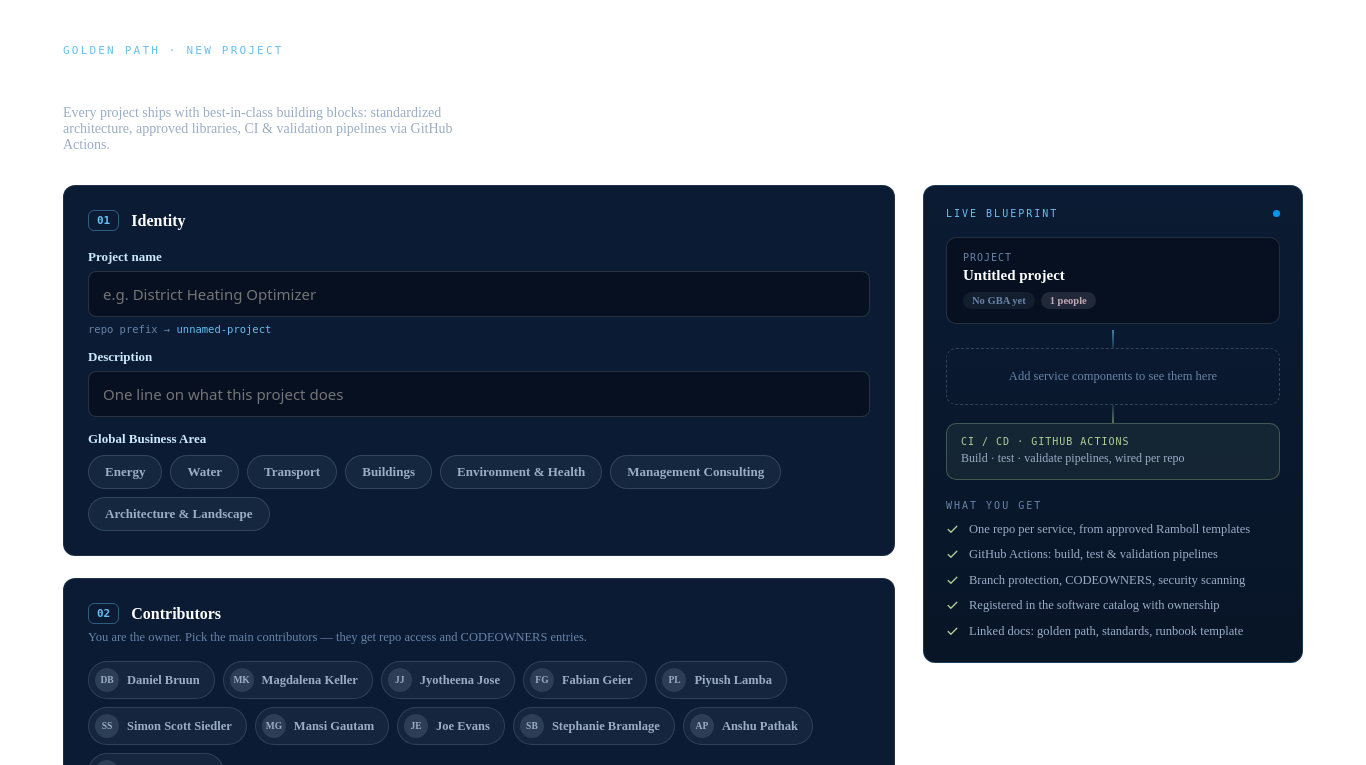
WizardScreen › toggles a GBA chip on and off (single-select)
Click the text "Energy" at (125, 472), box [88,455,162,489]
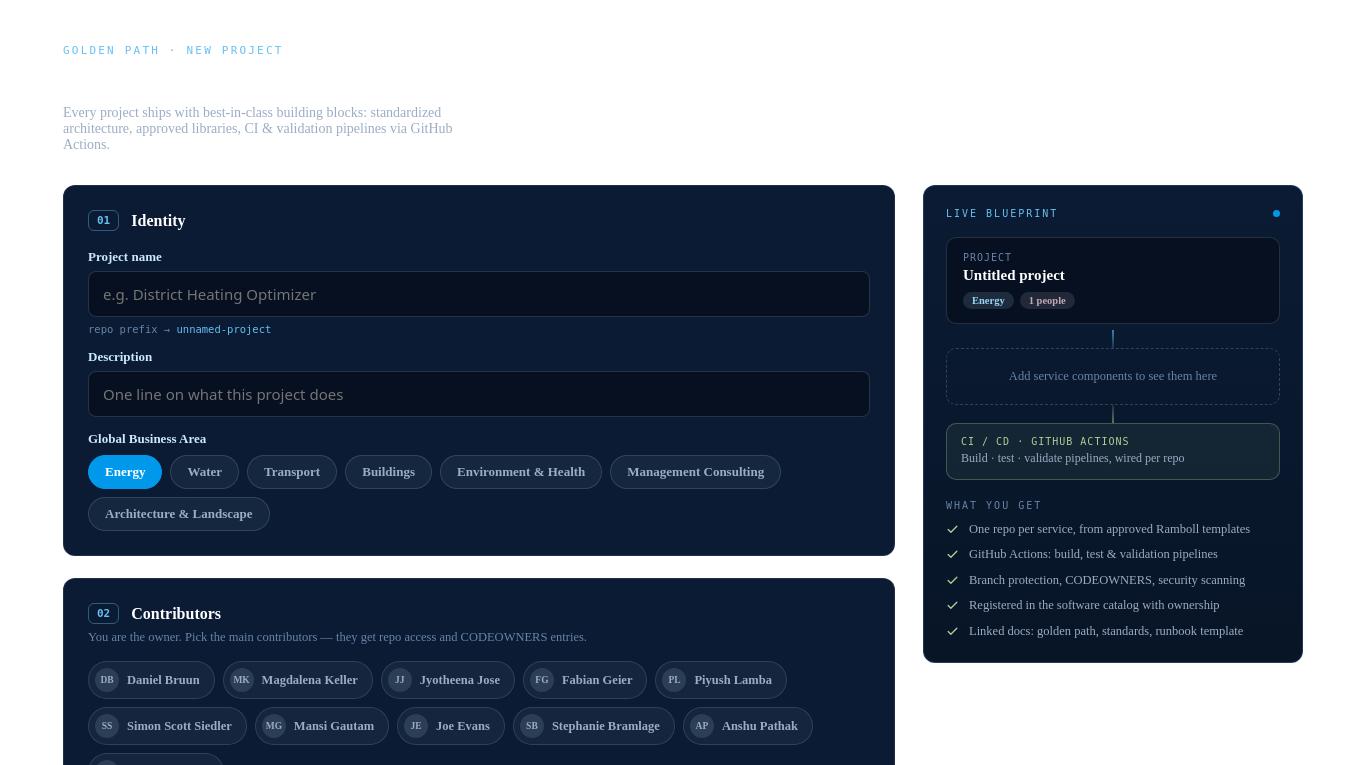
Now the text "No GBA yet" is gone
Click the text "Water" at (205, 472), box [170,455,239,489]
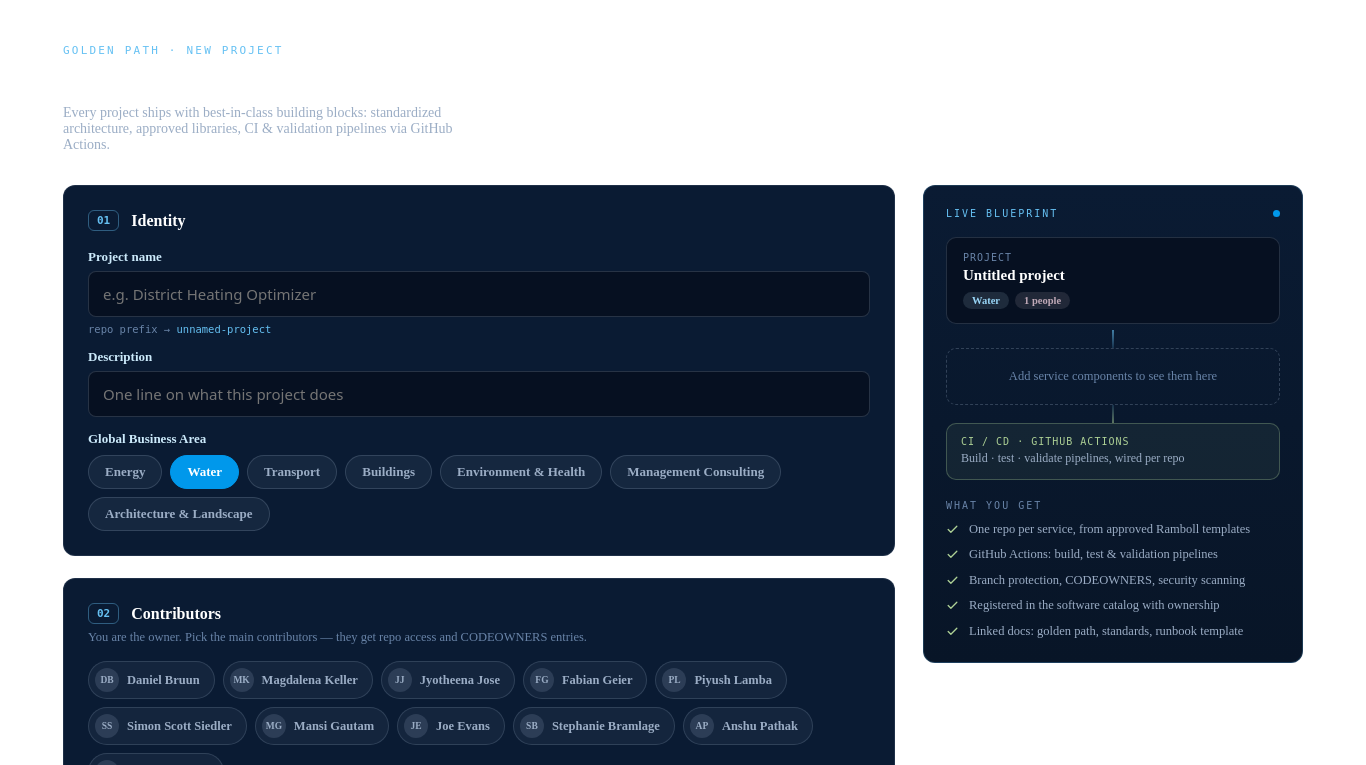
Expected: the text "No GBA yet" is not shown
Click the text "Water" next to "Energy" at (205, 472), box [170,455,239,489]
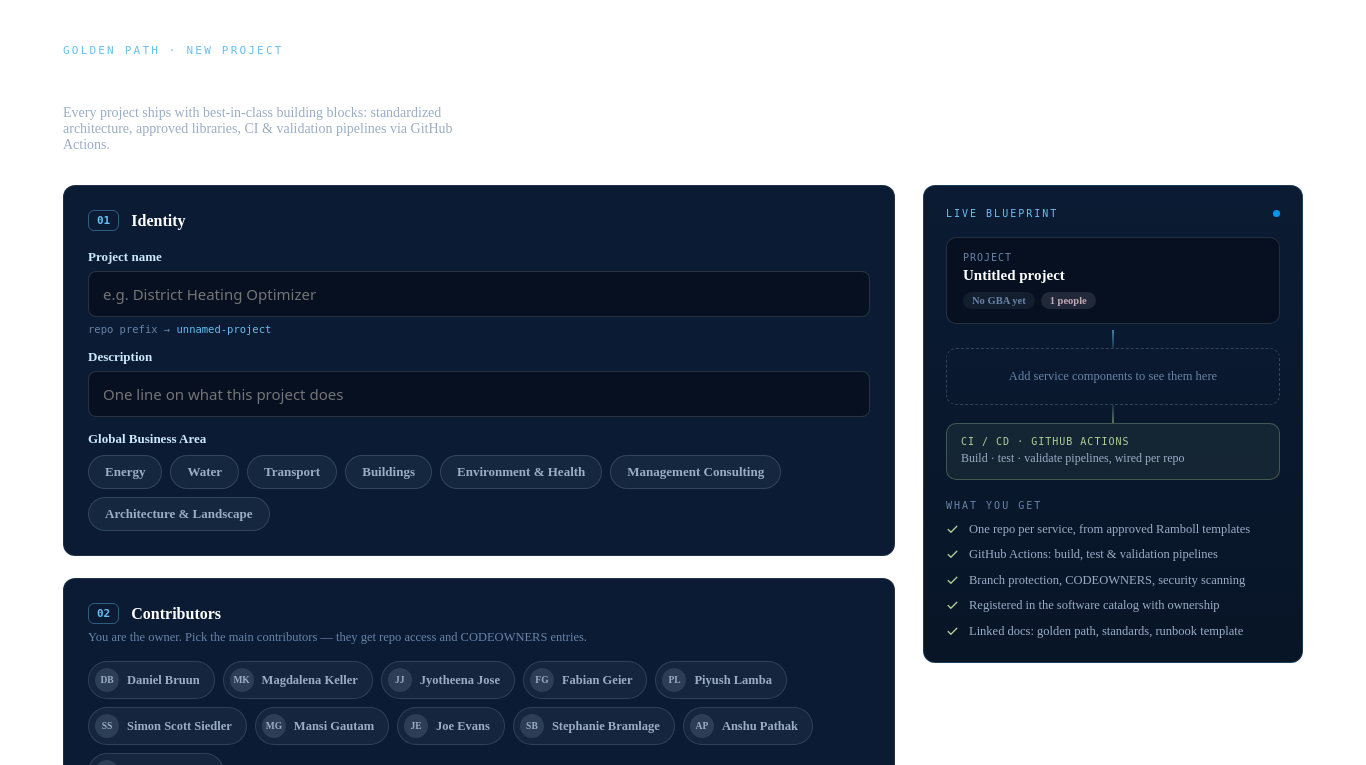
Now the text "No GBA yet" is shown, box [963,292,1035,309]
